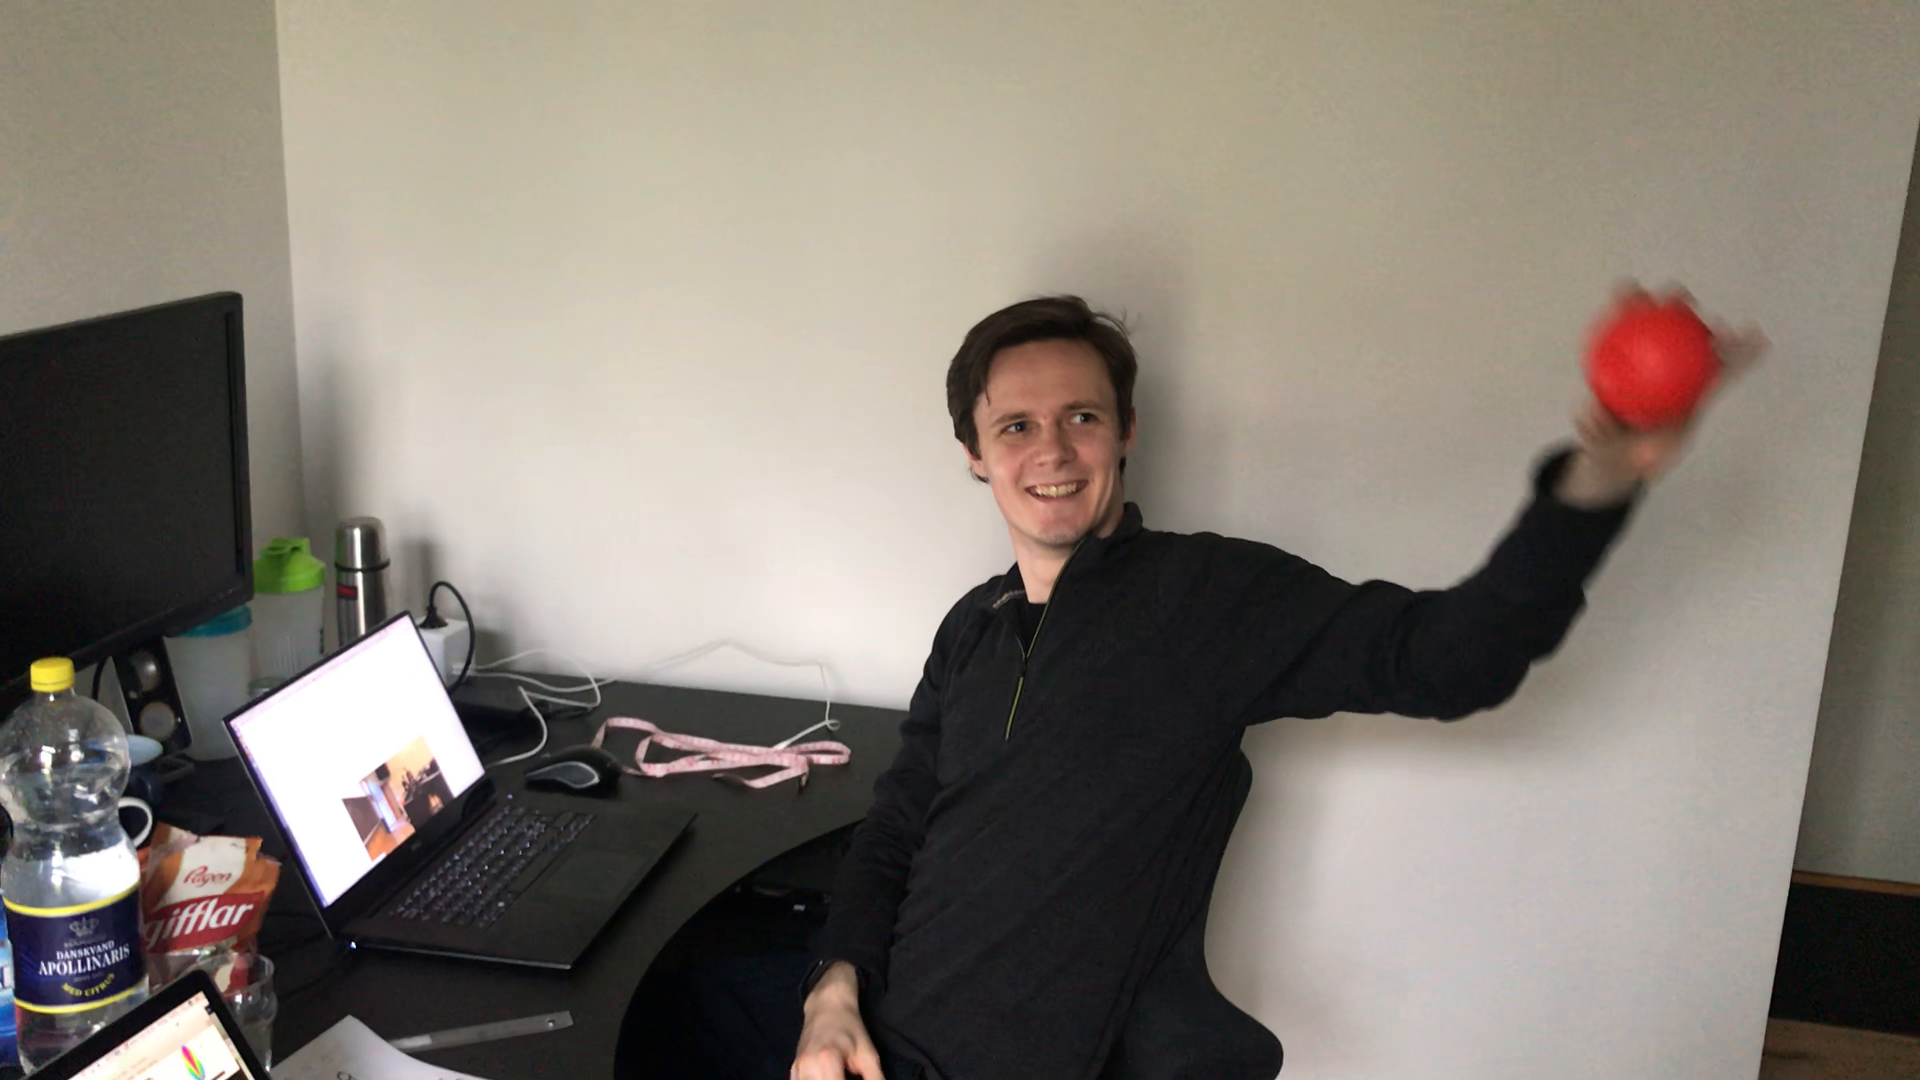Ball: (1588, 305, 1718, 426)
